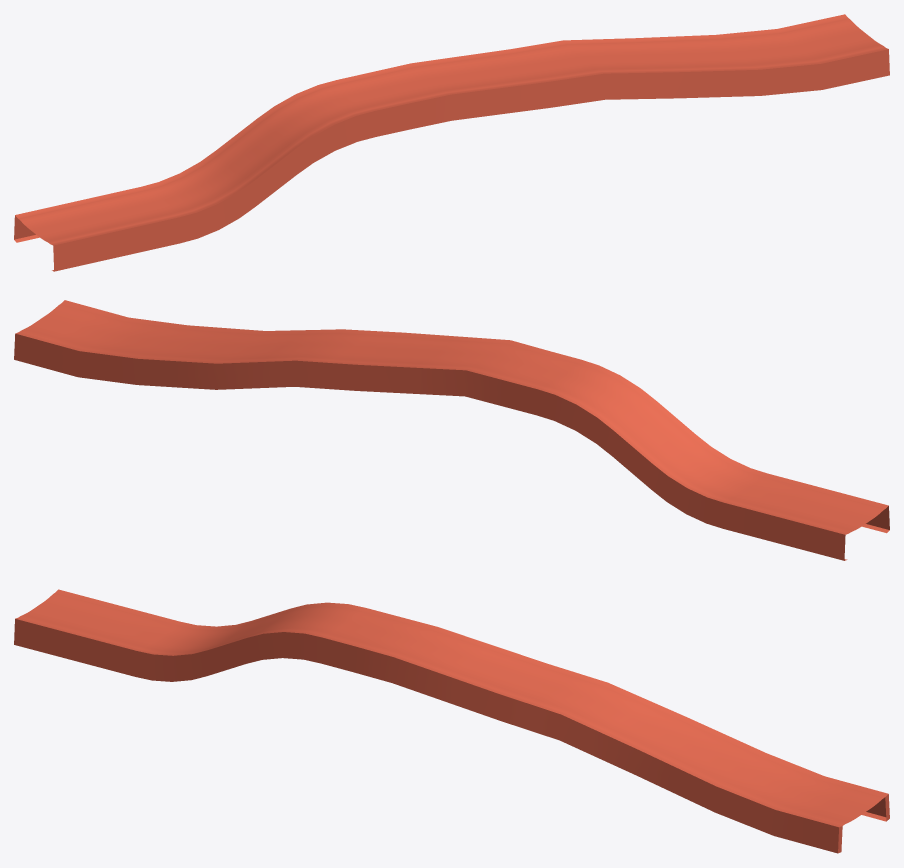
Rendered from road_rev.fbx.
3 renders of one model, top to bottom at view 1: azimuth 30°, elevation 25°; view 2: azimuth 150°, elevation 25°; view 3: azimuth 330°, elevation 25°, orthographic.
Visible parts, largest first — view 1: Cube.001; view 2: Cube.001; view 3: Cube.001.
Part boxes in pixels (x1,y1,x2,y2): Cube.001: (14, 14, 889, 271); Cube.001: (14, 300, 889, 560); Cube.001: (14, 589, 889, 853).
Bounding box in the file's own units: 9394 × 985 × 1109.
